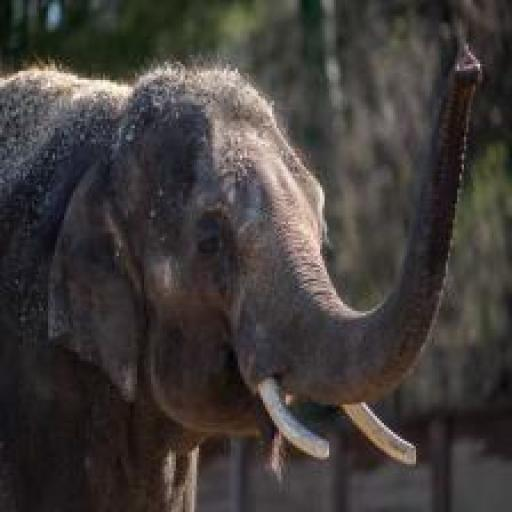Elephant: (0, 36, 487, 512)
